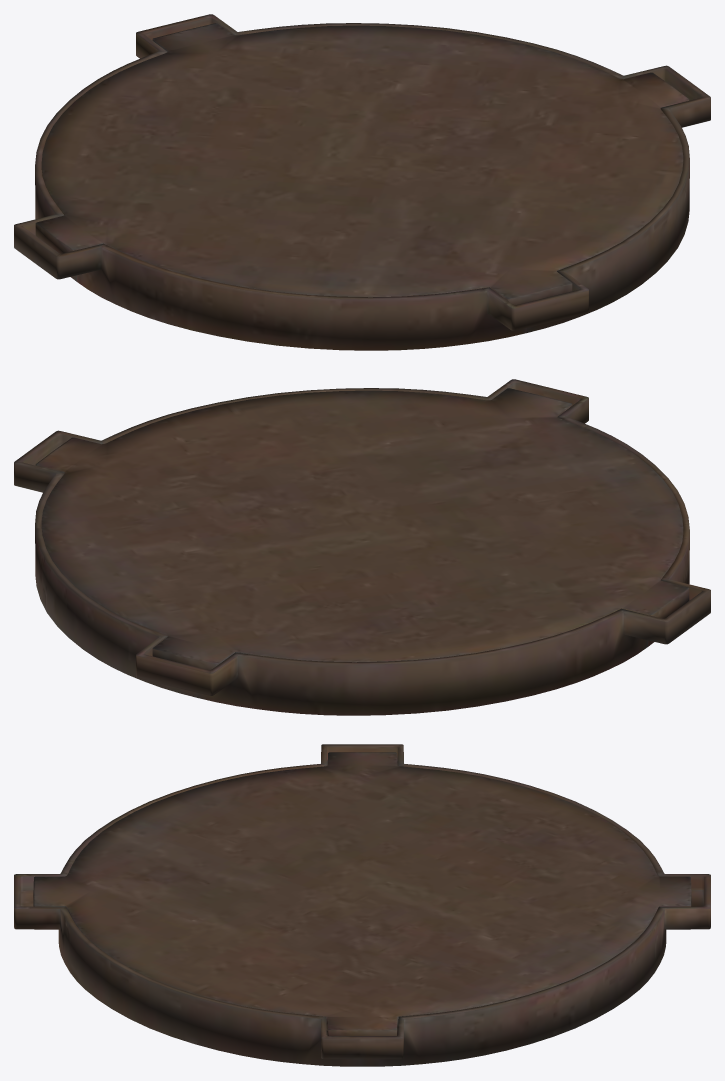
The model's file is manhole_a65739.glb.
The picture shows the model from 3 angles, top to bottom: view 1: azimuth 30°, elevation 25°; view 2: azimuth 150°, elevation 25°; view 3: azimuth 270°, elevation 25°; orthographic projection. The views are drawn at different scales.
Parts seen in each view (by area): view 1: Manhole_Low, Manhole_Base_Low; view 2: Manhole_Low, Manhole_Base_Low; view 3: Manhole_Low, Manhole_Base_Low.
Part boxes in pixels (x1,y1,x2,y2): Manhole_Low: [35, 23, 689, 304]; Manhole_Base_Low: [14, 14, 710, 350]; Manhole_Low: [35, 388, 689, 669]; Manhole_Base_Low: [14, 379, 710, 715]; Manhole_Low: [33, 752, 691, 1035]; Manhole_Base_Low: [14, 744, 710, 1066].
Bounding box in the file's own units: 2 × 0.1496 × 2.
Materials: 2 (2 with a texture image).
